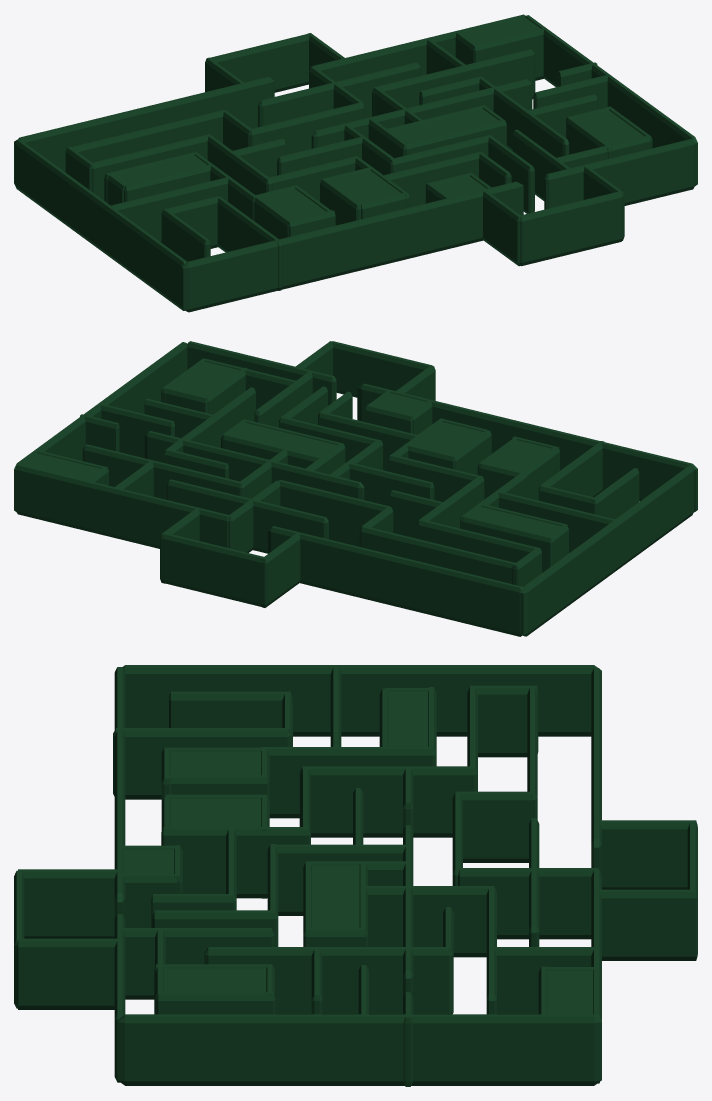
The model's file is maze.gltf.
3 views of the same model, one above another, from view 1: azimuth 30°, elevation 25°; view 2: azimuth 150°, elevation 25°; view 3: azimuth 270°, elevation 25° (orthographic). The views are drawn at different scales.
Parts seen in each view (by area): view 1: maze; view 2: maze; view 3: maze.
Part boxes in pixels (x1,y1,x2,y2): maze: (14,14,697,312); maze: (14,341,697,636); maze: (14,665,697,1086).
Bounding box in the file's own units: 80.03 × 7.28 × 65.19.
